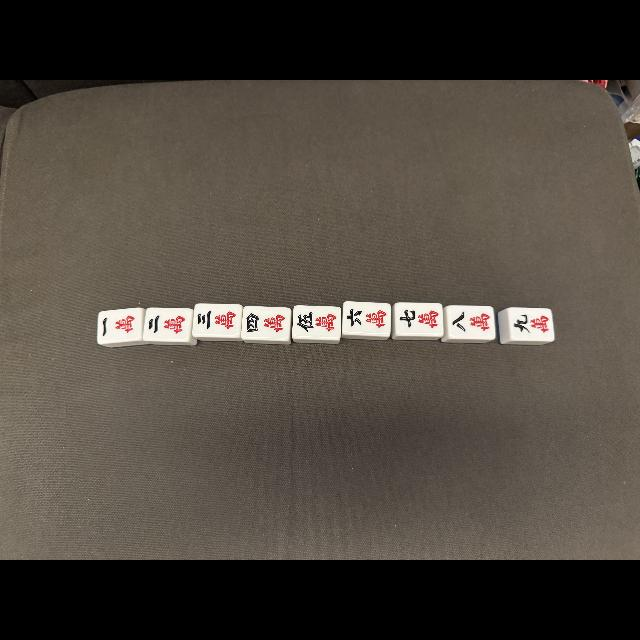c1: (98, 310, 140, 342)
c2: (144, 308, 190, 340)
c3: (194, 304, 240, 336)
c4: (242, 307, 290, 339)
c5: (294, 306, 340, 338)
c6: (344, 303, 391, 335)
c7: (397, 304, 443, 334)
c8: (450, 307, 494, 339)
c9: (510, 308, 552, 339)
